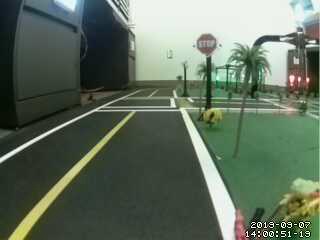Stop_Sign: (192, 27, 220, 61)
